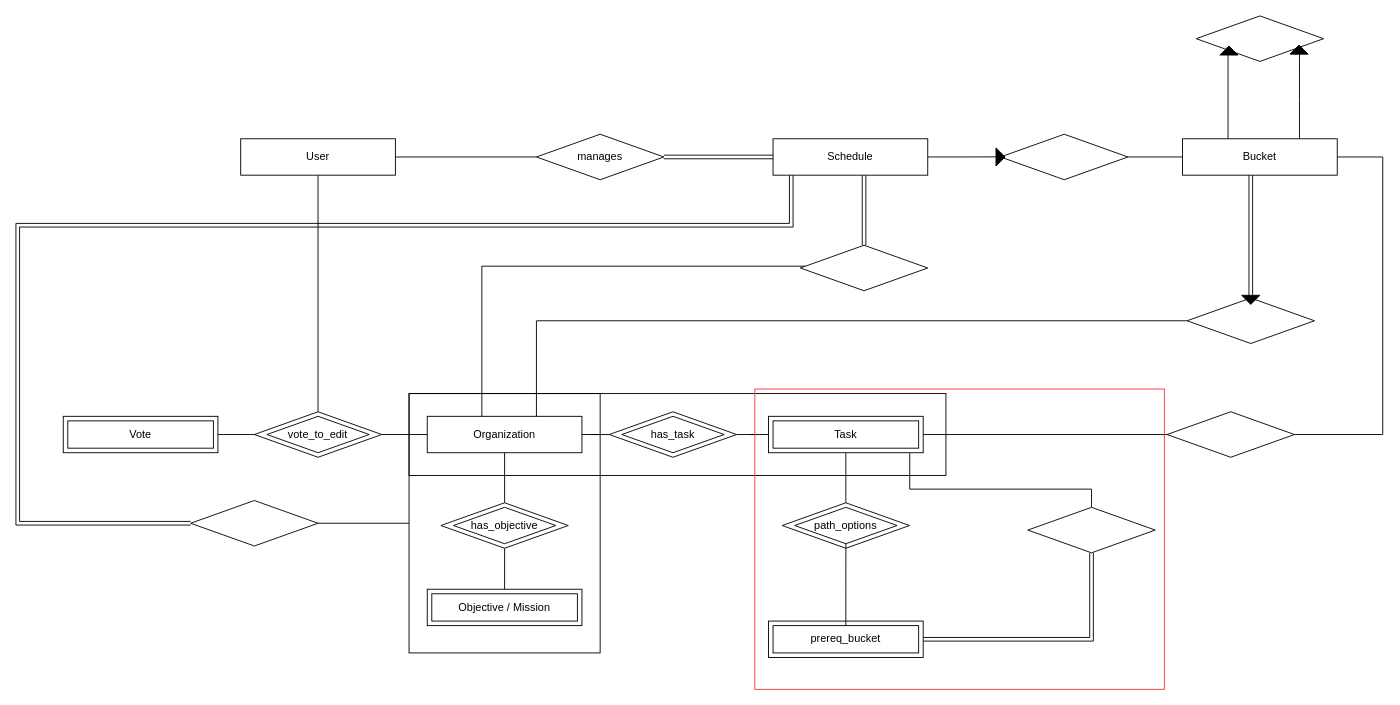
Image size: 1400x705. Some labels were removed from this diagram. The centre of each missing label's shape, as x and y in pixels:
built_to_complete: the point at 254,523
composed of: the point at 1091,529
composed_of: the point at 1230,434
constrained_by: the point at 863,267
Determines_size: the point at 1250,320
has_bucket: the point at 1064,156
next_bucket: the point at 1259,38
